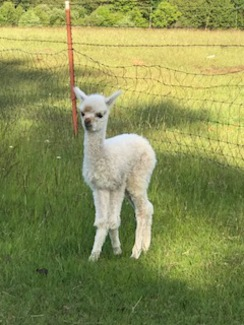alpaca: (71, 85, 157, 263)
